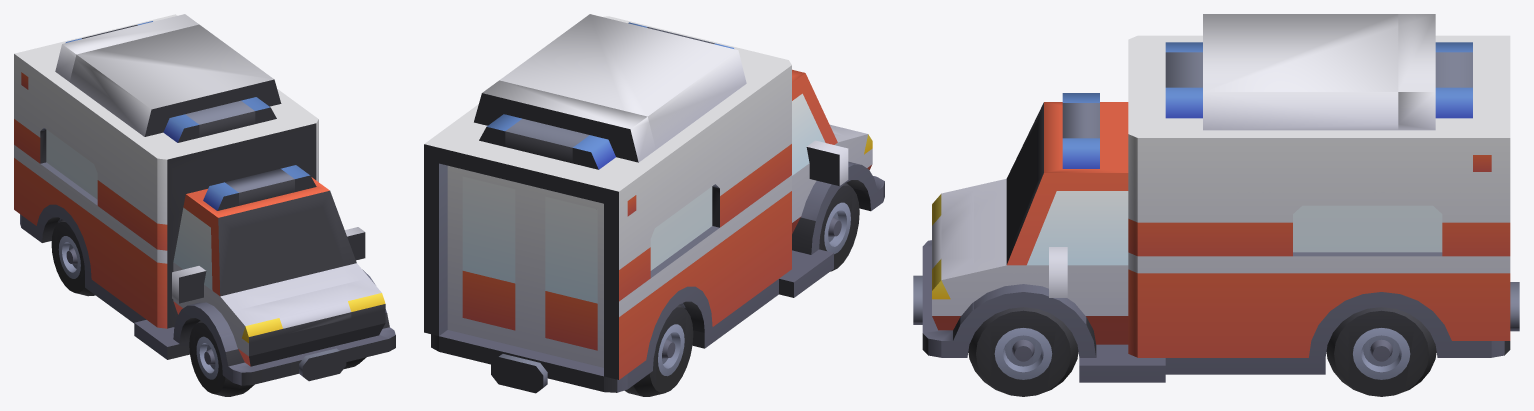
Rendered from schoolBus.glb.
3 renders of one model, left to right at view 1: azimuth 30°, elevation 25°; view 2: azimuth 150°, elevation 25°; view 3: azimuth 270°, elevation 25°, orthographic. The views are drawn at different scales.
Visible parts, largest first — view 1: body, trunk, hood, wheel_fr, wheel_rr; view 2: body, hood, door_l, door_r, wheel_rr, wheel_fr, trunk; view 3: body, hood, trunk, wheel_rl, wheel_fl.
Boxes of the visible parts, x1=… form: body: x1=57, y1=24, x2=375, y2=359; trunk: x1=220, y1=278, x2=395, y2=385; hood: x1=14, y1=14, x2=198, y2=242; wheel_fr: x1=189, y1=320, x2=254, y2=396; wheel_rr: x1=51, y1=219, x2=95, y2=296; body: x1=476, y1=14, x2=867, y2=348; hood: x1=424, y1=80, x2=670, y2=393; door_l: x1=447, y1=165, x2=530, y2=349; door_r: x1=530, y1=186, x2=603, y2=367; wheel_rr: x1=624, y1=304, x2=693, y2=396; wheel_fr: x1=819, y1=183, x2=859, y2=271; trunk: x1=830, y1=124, x2=884, y2=211; body: x1=974, y1=14, x2=1398, y2=382; hood: x1=1398, y1=14, x2=1519, y2=357; trunk: x1=913, y1=186, x2=973, y2=357; wheel_rl: x1=1326, y1=307, x2=1436, y2=396; wheel_fl: x1=968, y1=307, x2=1078, y2=396.
Size of the model in its own units: 4.8 by 5.76 by 10.4.
Materials: 4 (1 with a texture image).
